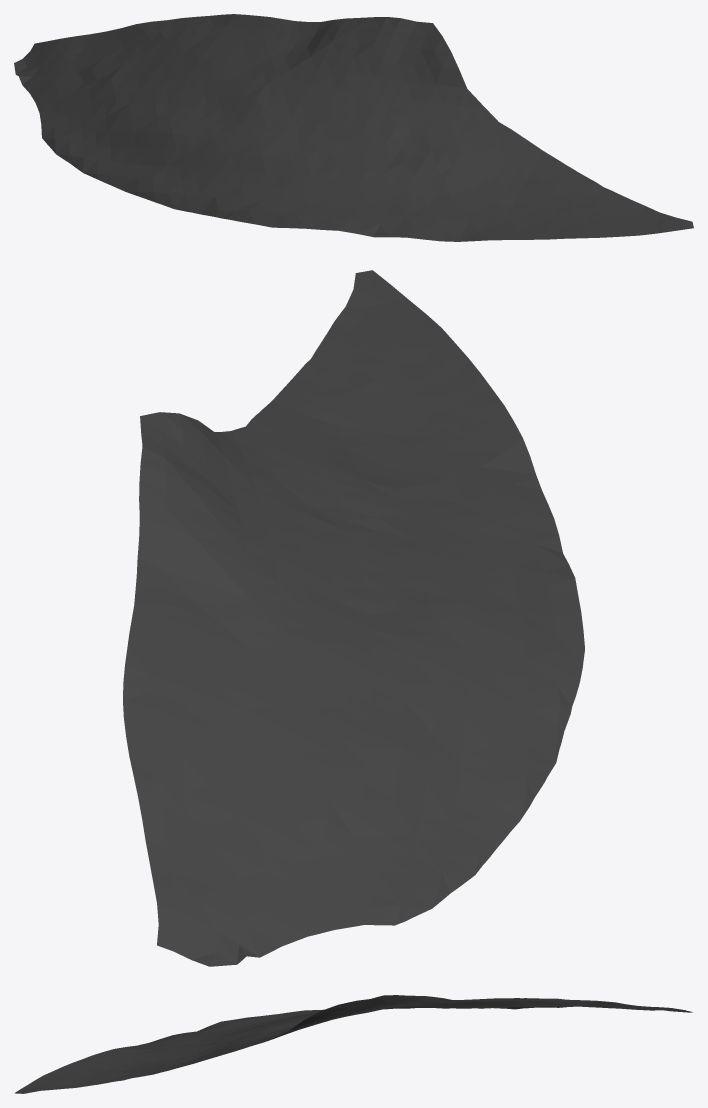
Rendered from eq_dist_limb_Sole.glb.
The picture shows the model from 3 angles, top to bottom: view 1: azimuth 30°, elevation 25°; view 2: azimuth 150°, elevation 25°; view 3: azimuth 270°, elevation 25°; orthographic projection. The views are drawn at different scales.
Parts seen in each view (by area): view 1: eq_dist_limb_Sole; view 2: eq_dist_limb_Sole; view 3: eq_dist_limb_Sole.
Part boxes in pixels (x1=…): eq_dist_limb_Sole: x1=14, y1=14, x2=693, y2=241; eq_dist_limb_Sole: x1=123, y1=270, x2=584, y2=966; eq_dist_limb_Sole: x1=14, y1=995, x2=692, y2=1093.
Bounding box in the file's own units: 0.00569 × 0.00227 × 0.0113.
Materials: 1 (1 with a texture image).
